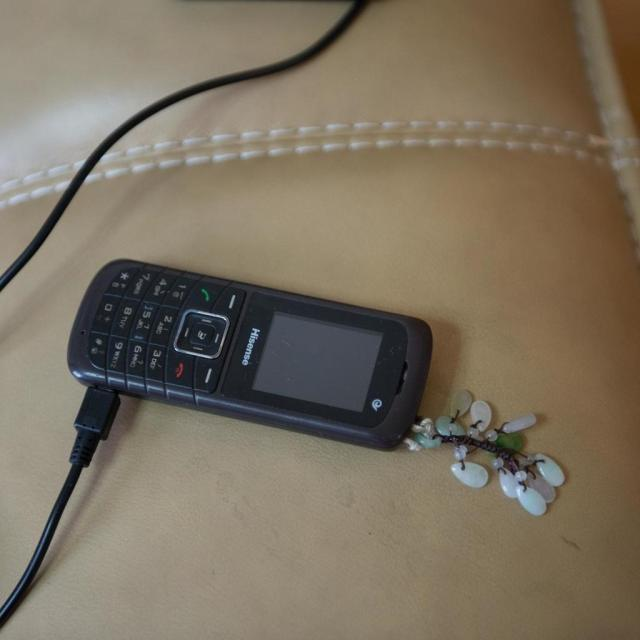Phone: (63, 255, 434, 452)
